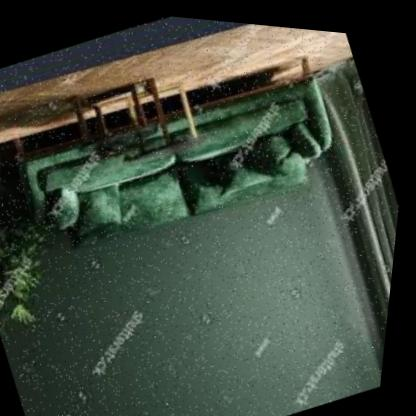Sofa: (0, 0, 383, 317)
